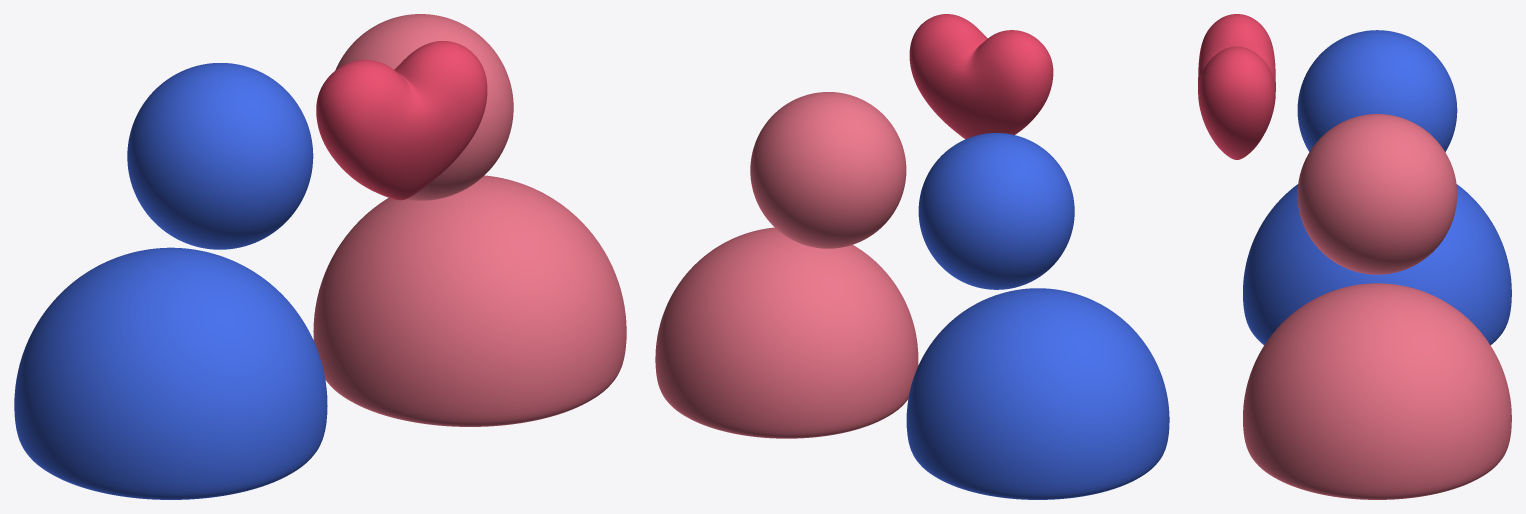
File: match-3d-animated-icon-16516054146.glb
3 renders of one model, left to right at view 1: azimuth 30°, elevation 25°; view 2: azimuth 150°, elevation 25°; view 3: azimuth 270°, elevation 25°, orthographic. The views are drawn at different scales.
Visible parts, largest first — view 1: male.001, female.001, male, heart, female; view 2: male.001, female.001, male, female, heart; view 3: female.001, female, male.001, male, heart.
Part boxes in pixels (<box>): male.001: <box>14,247,327,499</box>; female.001: <box>313,175,626,426</box>; male: <box>127,63,313,249</box>; heart: <box>316,41,487,200</box>; female: <box>335,14,513,200</box>; male.001: <box>906,288,1169,499</box>; female.001: <box>655,227,918,438</box>; male: <box>918,133,1074,289</box>; female: <box>750,92,906,248</box>; heart: <box>909,14,1053,139</box>; female.001: <box>1243,283,1511,499</box>; female: <box>1297,114,1457,274</box>; male.001: <box>1243,184,1511,345</box>; male: <box>1297,30,1457,151</box>; heart: <box>1198,14,1275,159</box>.
Bounding box in the file's own units: 2.97 × 2.04 × 1.65.
